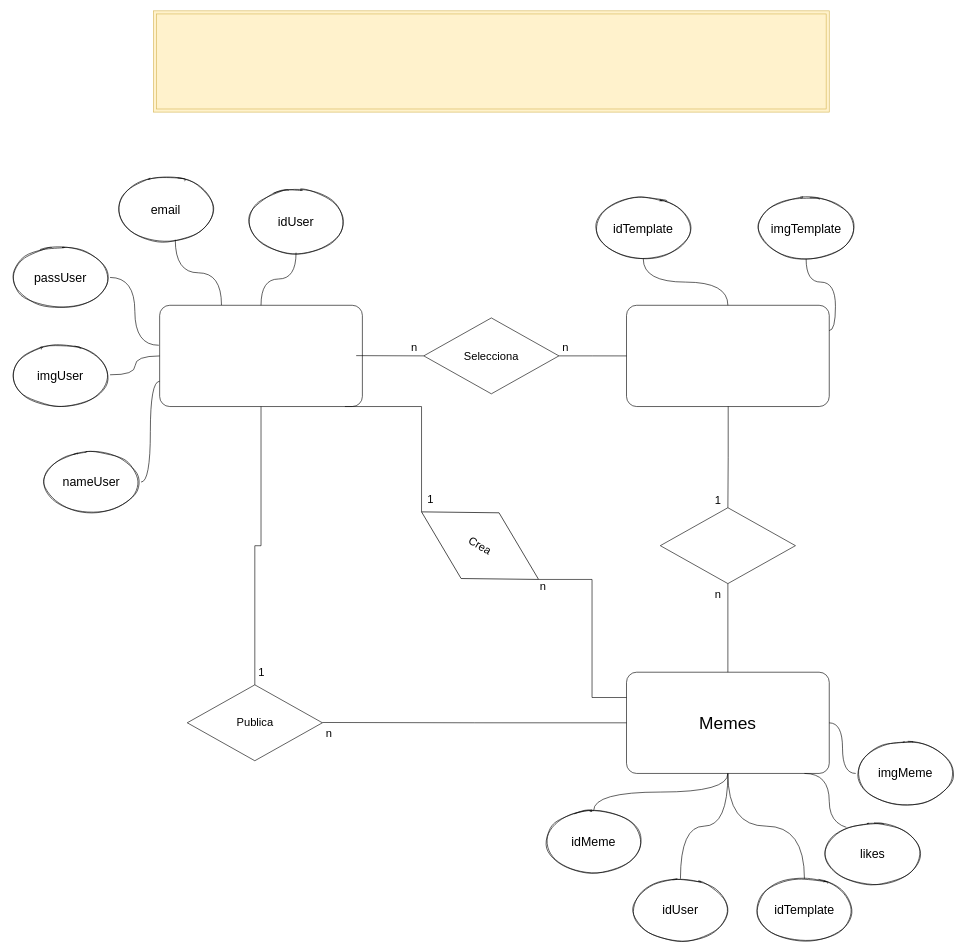
This 966x952 diagram has some shape labels left out. Here are the shapes that lost their labels. From the top down, the centre of each, then its label:
(491,61): MEMIGOS - Diseño Roberto Martinez
(260,356): Usuarios
(727,356): Plantillas
(727,545): Utiliza
